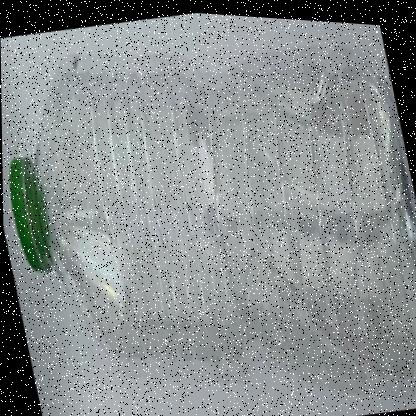bottle cap: (1, 20, 196, 407)
